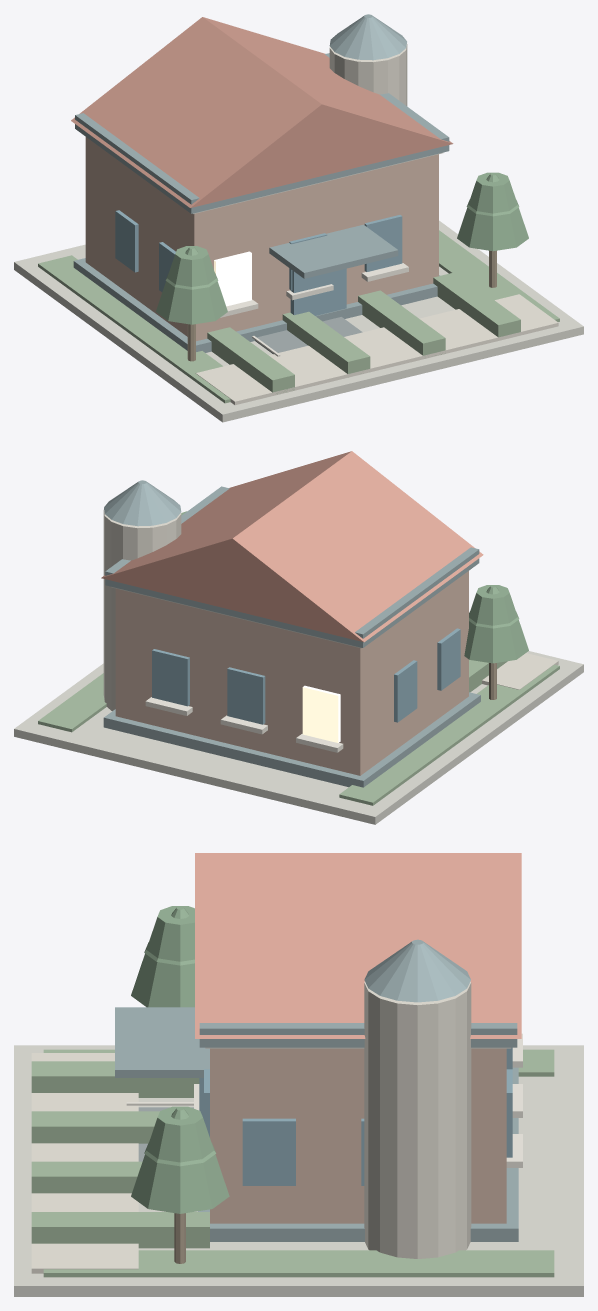
File: remaster_industry_farm_0.glb
3 views of the same model, one above another, from view 1: azimuth 30°, elevation 25°; view 2: azimuth 150°, elevation 25°; view 3: azimuth 270°, elevation 25° (orthographic). The views are drawn at different scales.
Parts seen in each view (by area): view 1: remaster_industry_farm_0 red, remaster_industry_farm_0 brick, remaster_industry_farm_0 green, remaster_industry_farm_0 roof, remaster_industry_farm_0 stone, remaster_industry_farm_0 cream, remaster_industry_farm_0 leaf, remaster_industry_farm_0 glass, remaster_industry_farm_0 warm, remaster_industry_farm_0 white, remaster_industry_farm_0 asphalt, remaster_industry_farm_0 bark; view 2: remaster_industry_farm_0 red, remaster_industry_farm_0 brick, remaster_industry_farm_0 stone, remaster_industry_farm_0 roof, remaster_industry_farm_0 green, remaster_industry_farm_0 glass, remaster_industry_farm_0 cream, remaster_industry_farm_0 leaf, remaster_industry_farm_0 warm, remaster_industry_farm_0 white; view 3: remaster_industry_farm_0 red, remaster_industry_farm_0 cream, remaster_industry_farm_0 stone, remaster_industry_farm_0 green, remaster_industry_farm_0 brick, remaster_industry_farm_0 roof, remaster_industry_farm_0 leaf, remaster_industry_farm_0 glass, remaster_industry_farm_0 white, remaster_industry_farm_0 bark.
Boxes of the visible parts, x1=… form: remaster_industry_farm_0 red: x1=71, y1=17, x2=453, y2=207; remaster_industry_farm_0 brick: x1=85, y1=137, x2=438, y2=341; remaster_industry_farm_0 green: x1=38, y1=230, x2=559, y2=403; remaster_industry_farm_0 roof: x1=73, y1=14, x2=449, y2=352; remaster_industry_farm_0 stone: x1=14, y1=152, x2=583, y2=422; remaster_industry_farm_0 cream: x1=195, y1=44, x2=558, y2=405; remaster_industry_farm_0 leaf: x1=156, y1=172, x2=528, y2=324; remaster_industry_farm_0 glass: x1=115, y1=210, x2=402, y2=315; remaster_industry_farm_0 warm: x1=214, y1=251, x2=251, y2=306; remaster_industry_farm_0 white: x1=220, y1=263, x2=408, y2=356; remaster_industry_farm_0 asphalt: x1=255, y1=317, x2=362, y2=354; remaster_industry_farm_0 bark: x1=187, y1=250, x2=496, y2=361; remaster_industry_farm_0 red: x1=101, y1=451, x2=483, y2=642; remaster_industry_farm_0 brick: x1=115, y1=571, x2=468, y2=775; remaster_industry_farm_0 stone: x1=14, y1=587, x2=583, y2=824; remaster_industry_farm_0 roof: x1=103, y1=480, x2=480, y2=787; remaster_industry_farm_0 green: x1=38, y1=660, x2=559, y2=805; remaster_industry_farm_0 glass: x1=152, y1=628, x2=460, y2=724; remaster_industry_farm_0 cream: x1=103, y1=510, x2=558, y2=710; remaster_industry_farm_0 leaf: x1=181, y1=511, x2=528, y2=663; remaster_industry_farm_0 warm: x1=302, y1=685, x2=340, y2=742; remaster_industry_farm_0 white: x1=145, y1=697, x2=343, y2=752; remaster_industry_farm_0 red: x1=195, y1=853, x2=521, y2=1038; remaster_industry_farm_0 cream: x1=31, y1=981, x2=471, y2=1273; remaster_industry_farm_0 stone: x1=14, y1=1045, x2=583, y2=1296; remaster_industry_farm_0 green: x1=31, y1=1049, x2=554, y2=1277; remaster_industry_farm_0 brick: x1=210, y1=1048, x2=506, y2=1223; remaster_industry_farm_0 roof: x1=115, y1=939, x2=518, y2=1241; remaster_industry_farm_0 leaf: x1=131, y1=906, x2=229, y2=1213; remaster_industry_farm_0 glass: x1=199, y1=1047, x2=512, y2=1185; remaster_industry_farm_0 white: x1=126, y1=1033, x2=522, y2=1167; remaster_industry_farm_0 bark: x1=174, y1=1213, x2=185, y2=1263.
Size of the model in its own units: 9.64 by 5.82 by 9.6.
